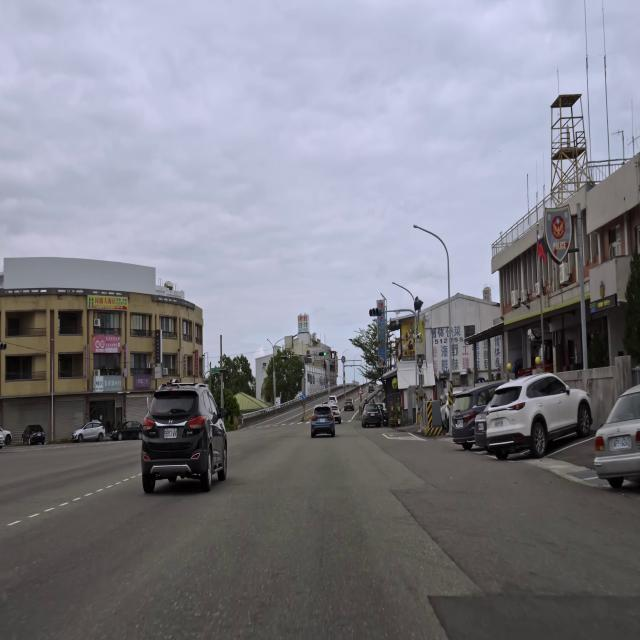green light: (319, 352, 326, 356)
